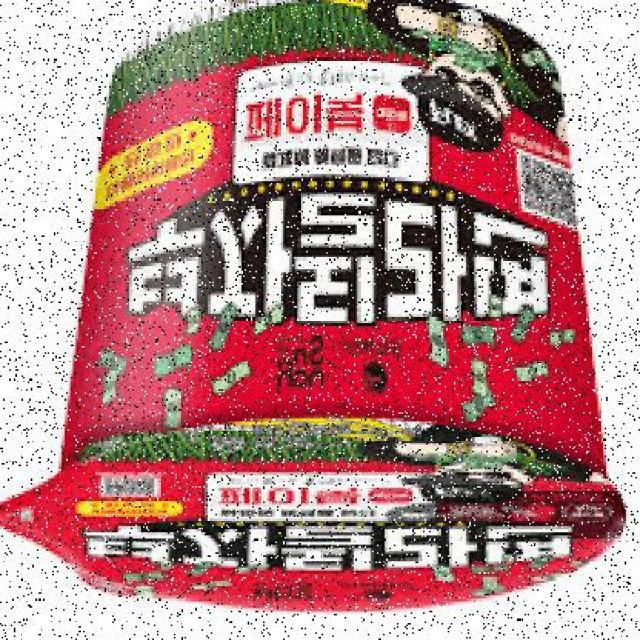Miscellaneous: (30, 0, 629, 615)
